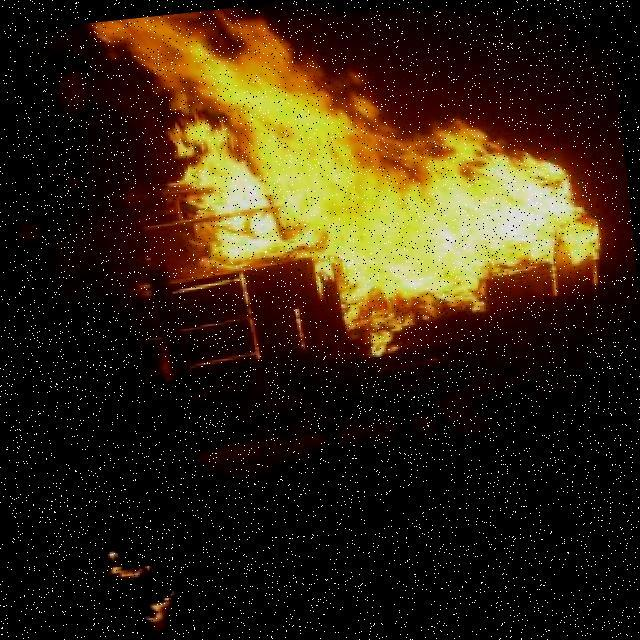Fire: (98, 0, 598, 374)
